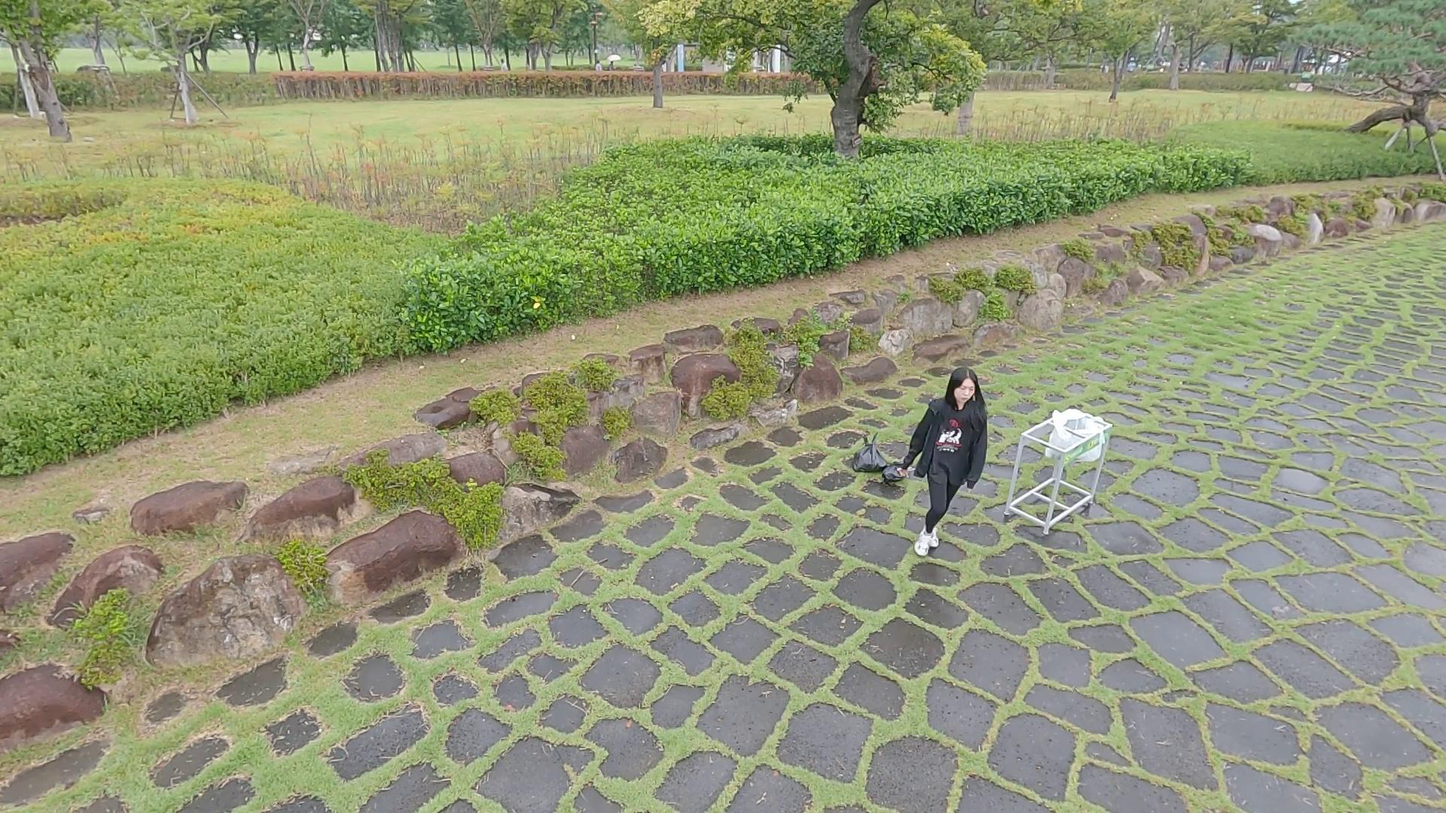person: (901, 366, 990, 558)
trash: (852, 431, 890, 473), (882, 458, 913, 484)
